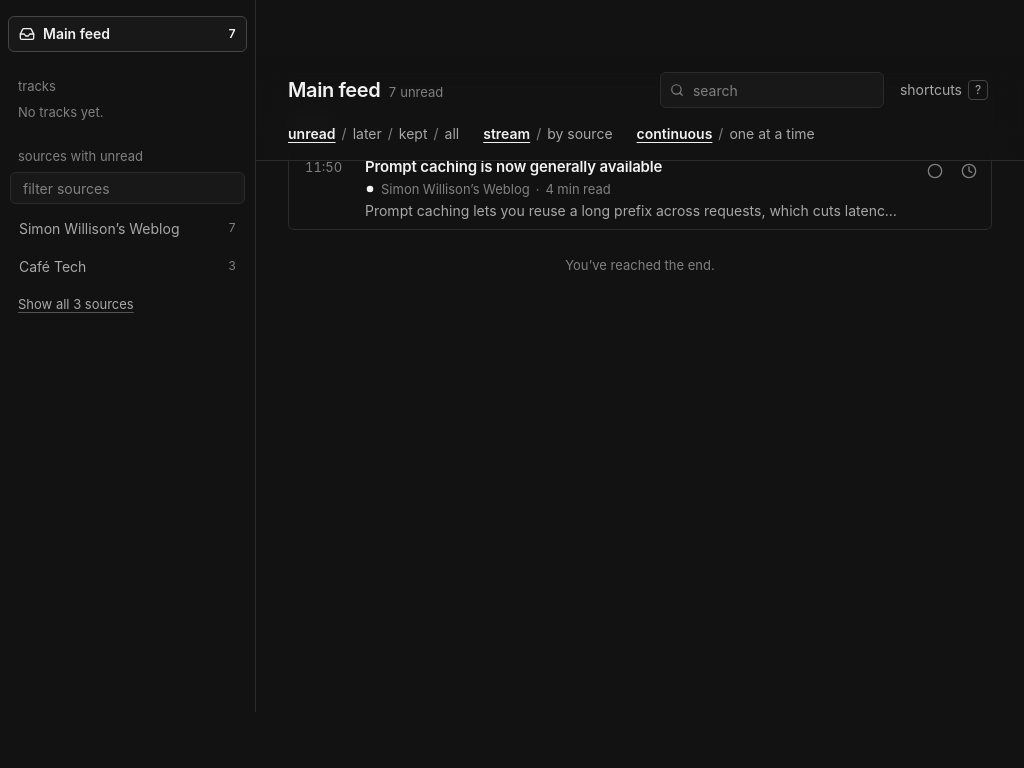
it: ReaderNavRail › source filter › Esc and the clear button empty the field
Expected: the link "Simon Willison’s Weblog 7" is shown, [8,210,247,246]
In the field labelled "filter sources": (128, 188) [10,172,245,204], type "cafe"
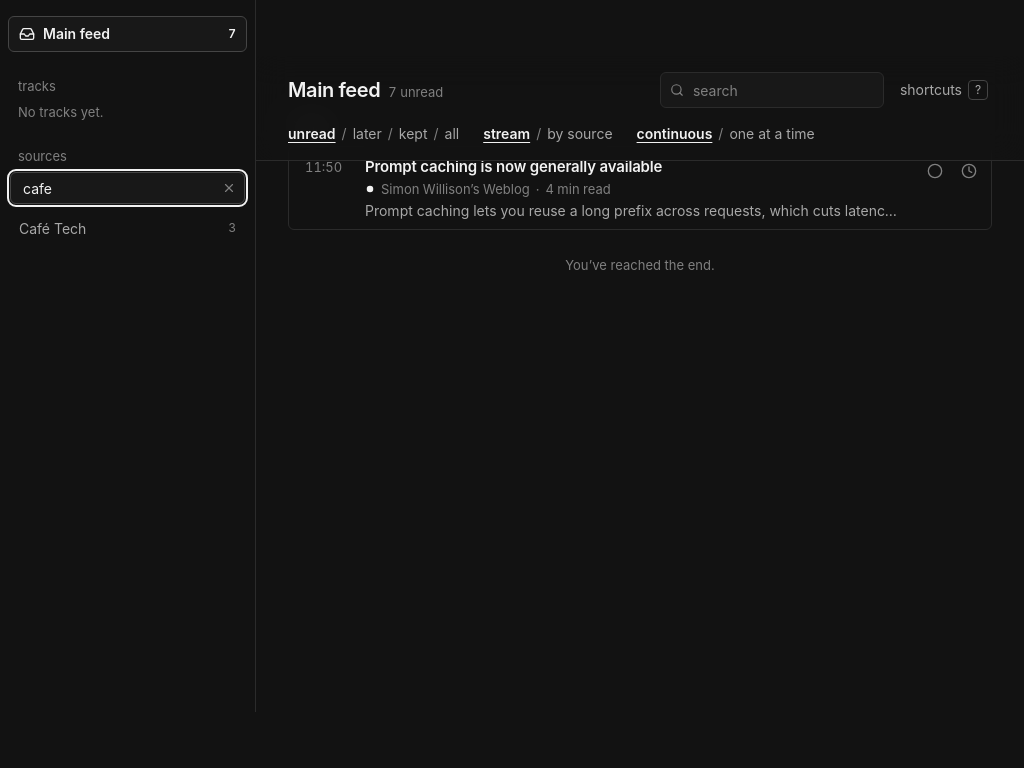
Press Escape
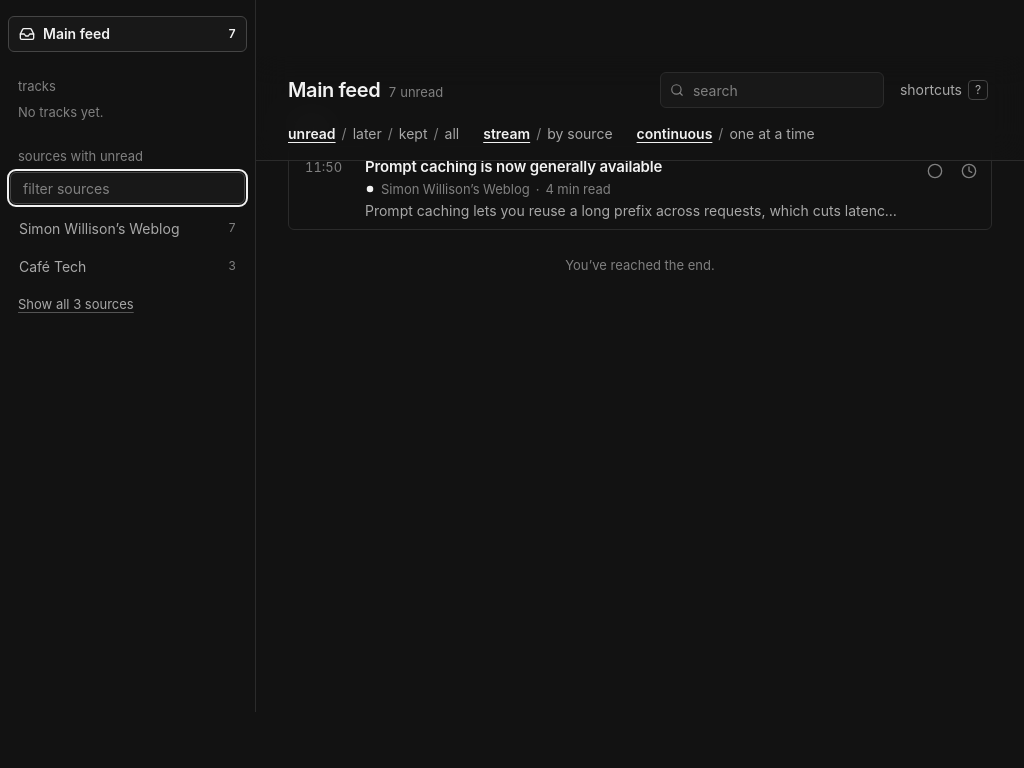
Expected: the field labelled "filter sources" is empty
Expected: the link "Simon Willison’s Weblog 7" is shown, [8,210,247,246]
In the field labelled "filter sources": (128, 188) [10,172,245,204], type "cafe"
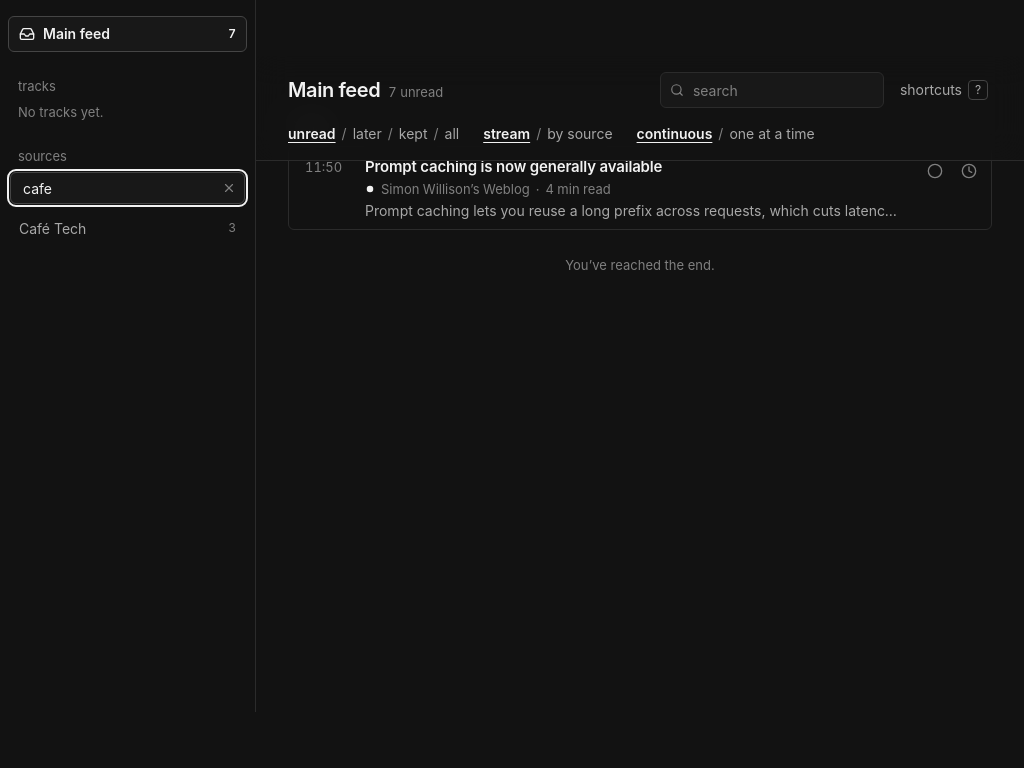
Click the button named "Clear filter": (229, 188) [213,172,245,204]
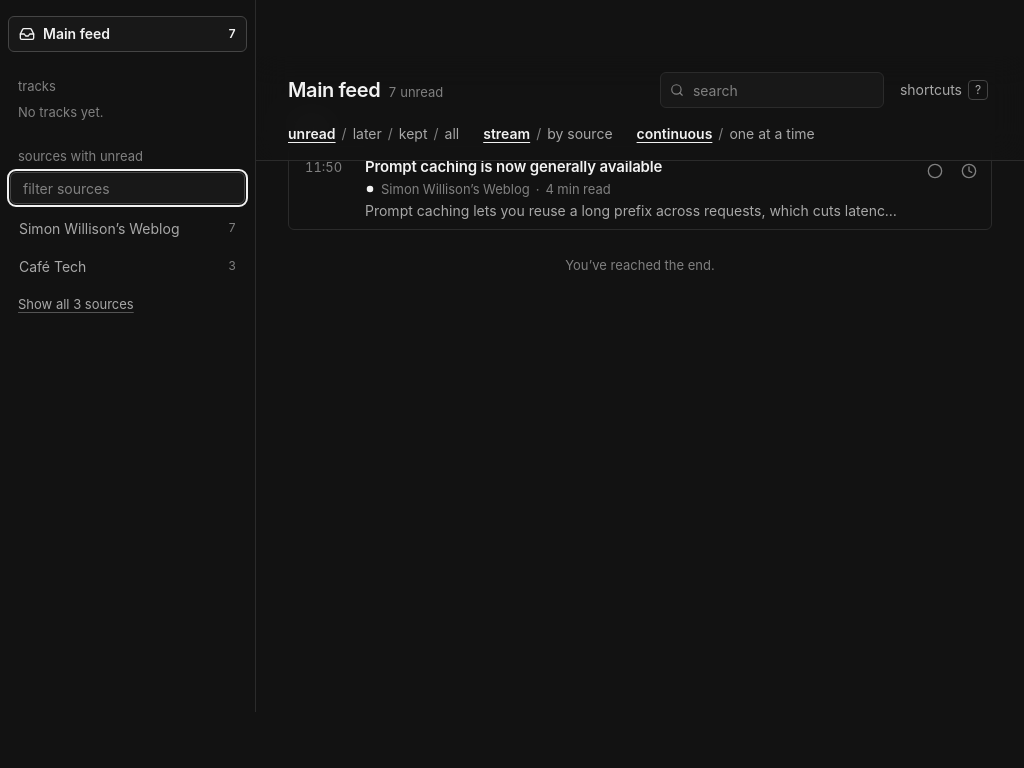
Expected: the field labelled "filter sources" is empty, [10,172,245,204]
